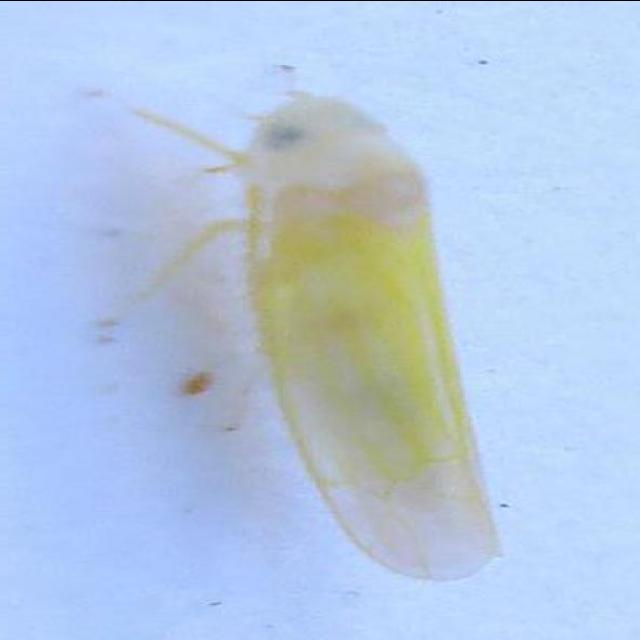green leaf hopper: (140, 93, 499, 578)
